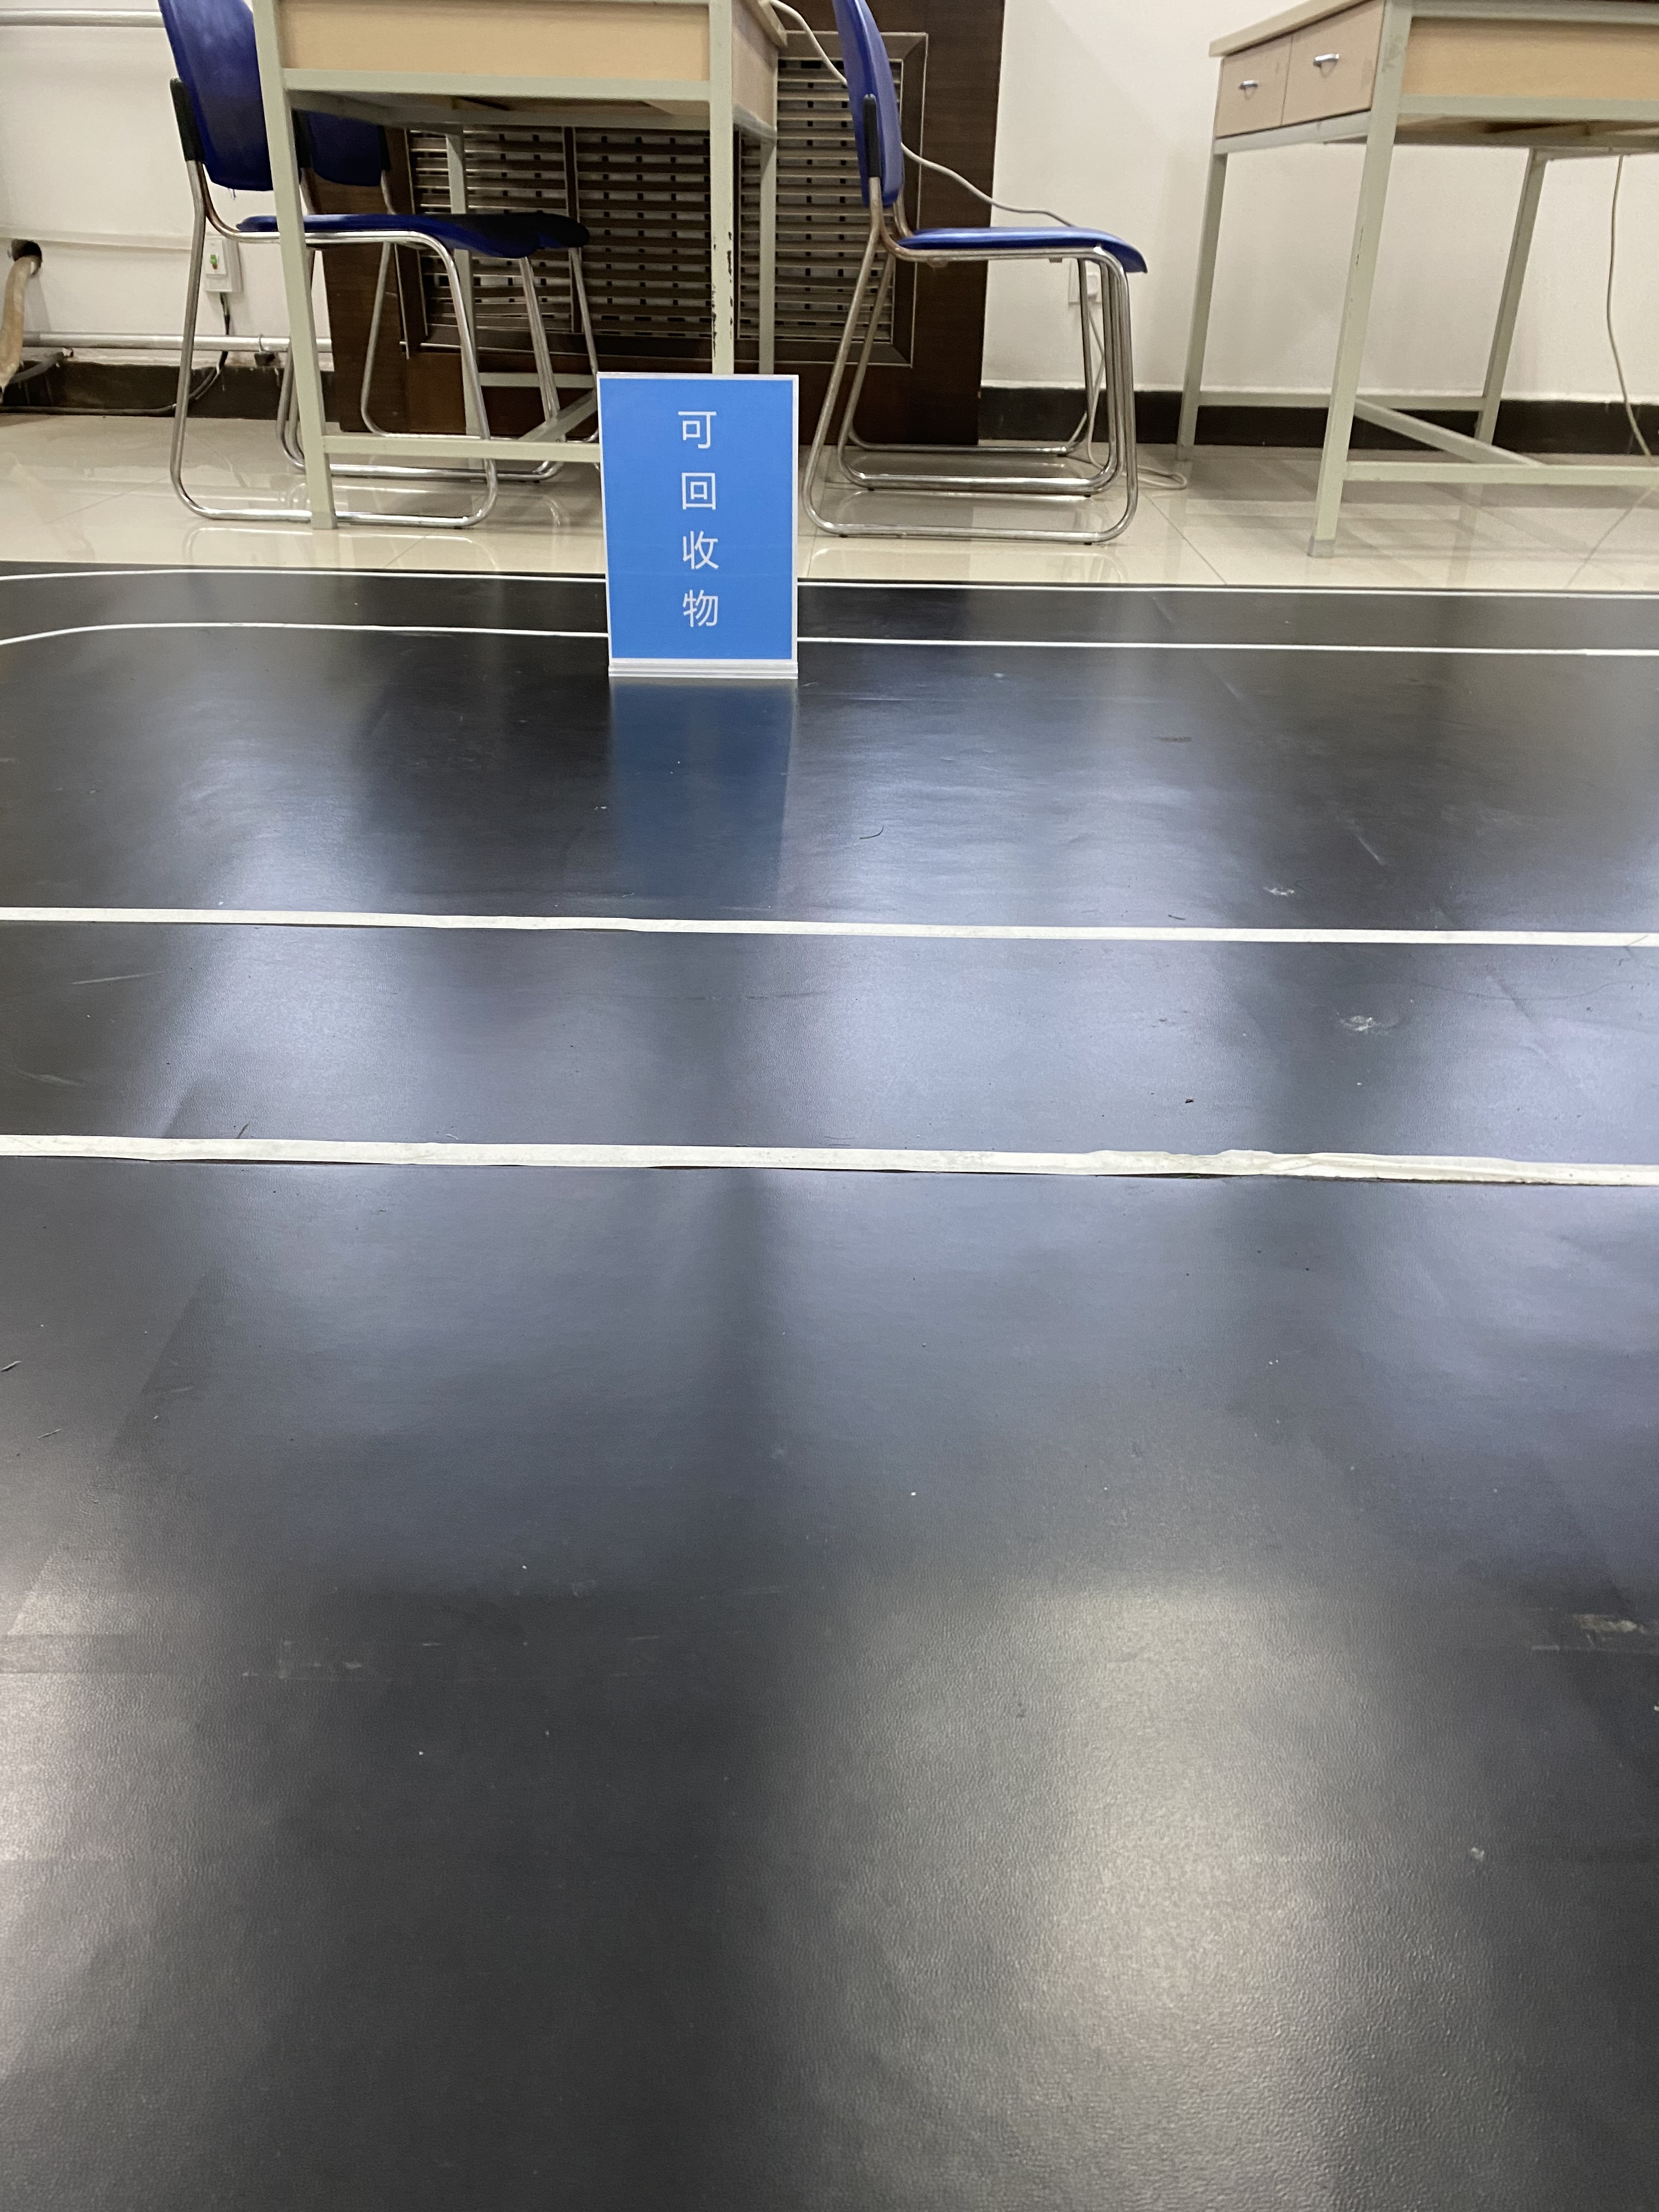blue: (601, 376, 791, 655)
